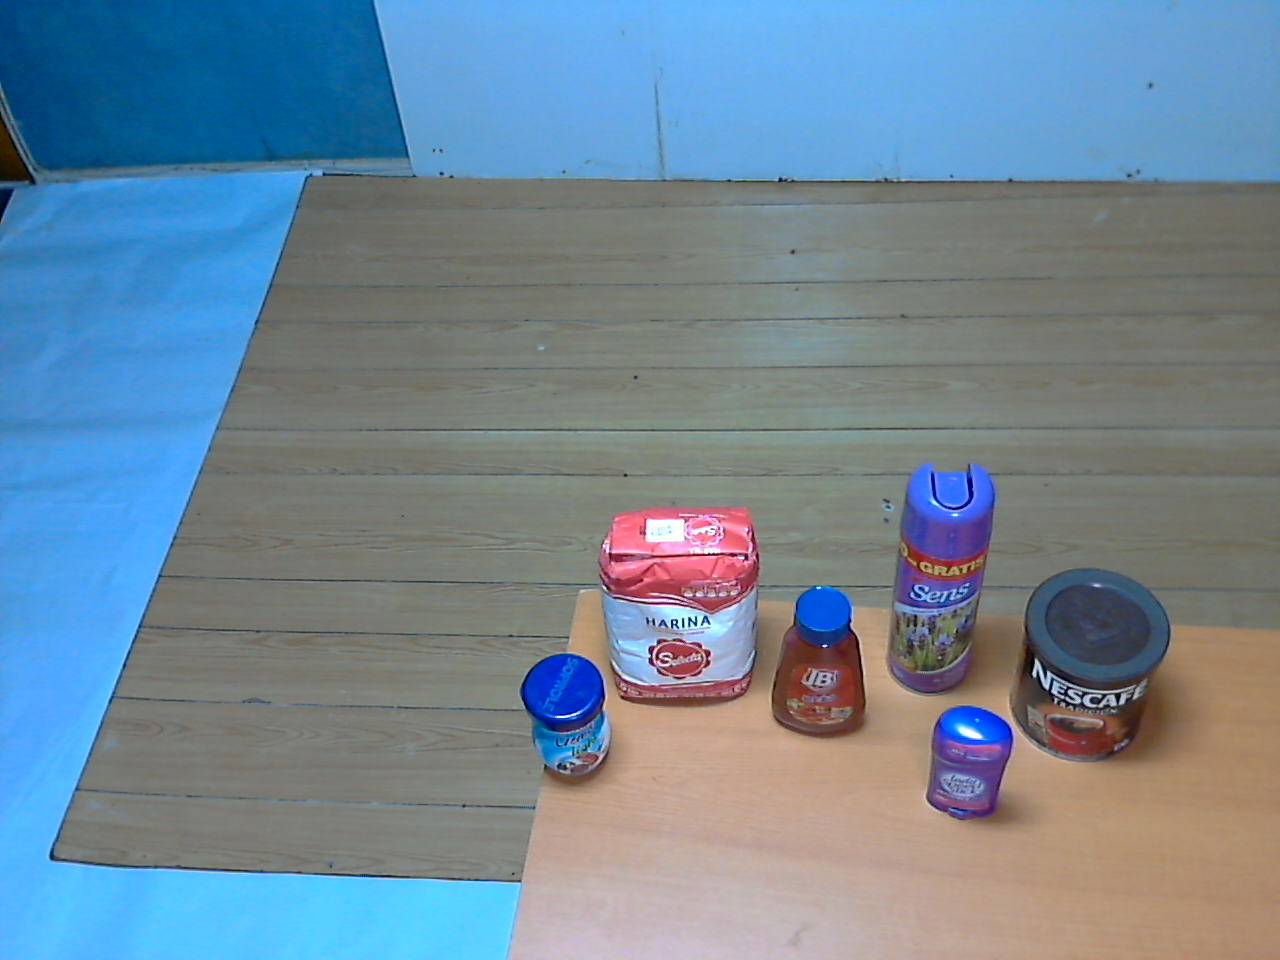aerosol: (877, 461, 994, 704)
cafe: (1010, 563, 1169, 773)
crema: (516, 647, 617, 792)
desodorante: (914, 702, 1023, 834)
harina: (588, 507, 771, 722)
ketchup: (764, 581, 880, 753)
